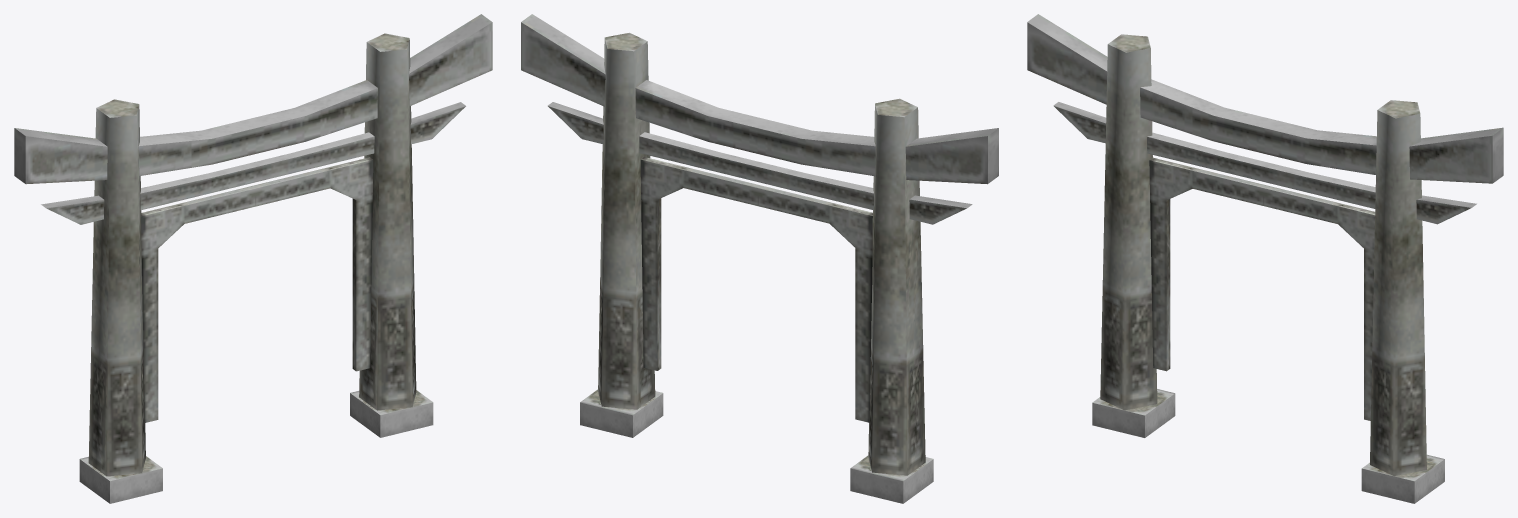
File: warpgate03.fbx
3 renders of one model, left to right at view 1: azimuth 30°, elevation 25°; view 2: azimuth 150°, elevation 25°; view 3: azimuth 330°, elevation 25°, orthographic.
Visible parts, largest first — view 1: gate03; view 2: gate03; view 3: gate03.
Boxes of the visible parts, x1,y1,x2,y2 form: gate03: (14, 14, 492, 503); gate03: (521, 14, 998, 503); gate03: (1027, 14, 1503, 503).
Size of the model in its own units: 9.4 by 7.29 by 1.07.
